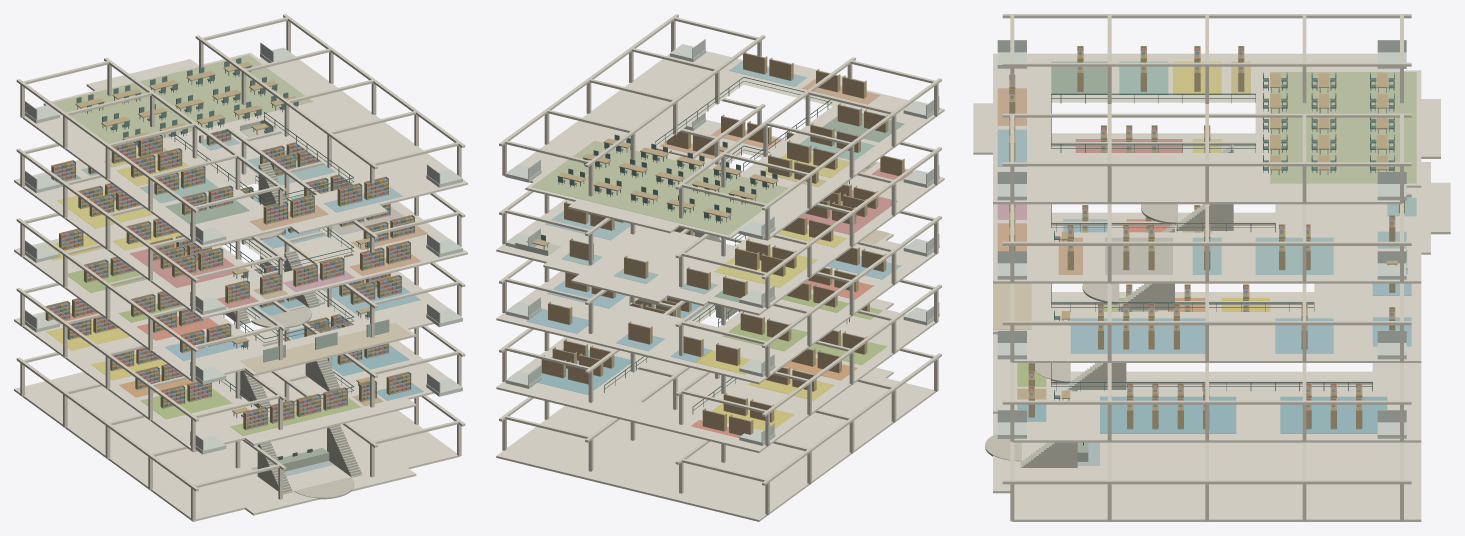
File: 图书馆_五层展开.glb
3 views of the same model, side by side, from view 1: azimuth 30°, elevation 25°; view 2: azimuth 150°, elevation 25°; view 3: azimuth 270°, elevation 25° (orthographic). The views are drawn at different scales.
Parts seen in each view (by area): view 1: guide_outline_floor_slab (×5), guide_function_tint (×18), schematic_beam (×9), photo_guided_curved_landing (×2), service_counter; view 2: guide_outline_floor_slab (×5), guide_function_tint (×16), schematic_beam (×9); view 3: guide_outline_floor_slab (×5), guide_function_tint (×17), schematic_beam (×12), photo_guided_curved_landing (×4).
Boxes of the visible parts, box(x1,y1,x2,y2) form: guide_outline_floor_slab (×5): box(14, 52, 467, 521); guide_function_tint (×18): box(47, 55, 420, 435); schematic_beam (×9): box(16, 14, 465, 491); photo_guided_curved_landing (×2): box(251, 306, 354, 499); service_counter: box(279, 448, 329, 471); guide_outline_floor_slab (×5): box(496, 51, 944, 521); guide_function_tint (×16): box(526, 61, 903, 430); schematic_beam (×9): box(499, 14, 941, 485); guide_outline_floor_slab (×5): box(973, 53, 1450, 521); guide_function_tint (×17): box(993, 61, 1416, 433); schematic_beam (×12): box(1002, 14, 1411, 484); photo_guided_curved_landing (×4): box(985, 204, 1177, 461).
Bounding box in the file's own units: 36.42 × 40.66 × 49.
